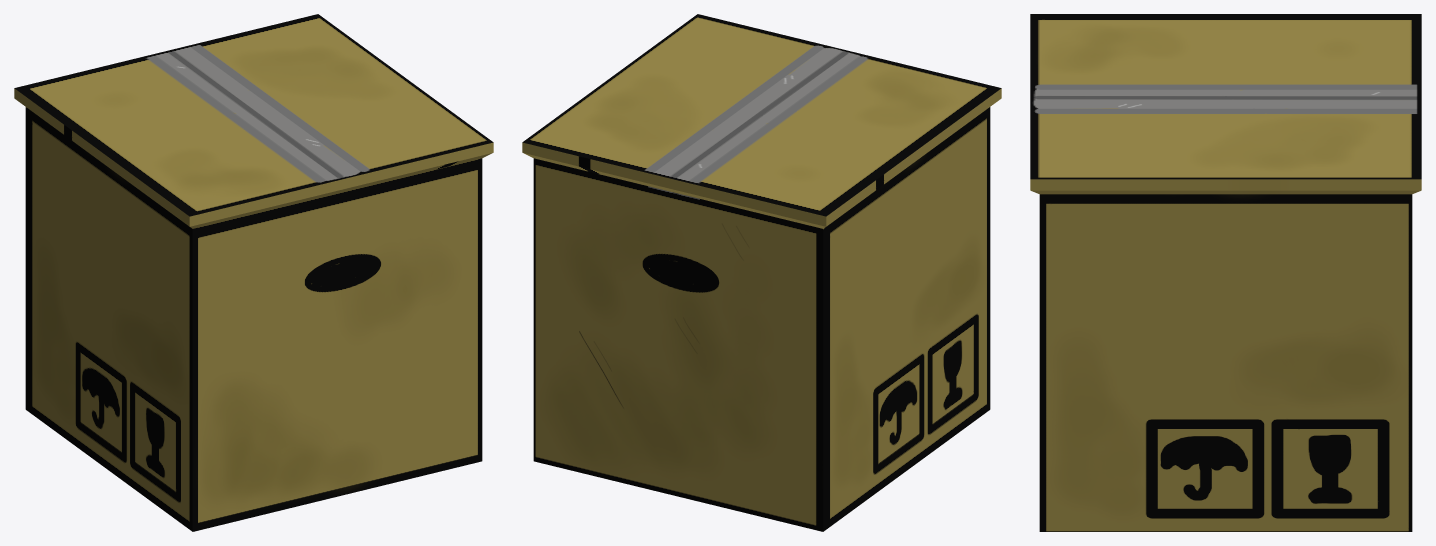
The model's file is Box-Throw.fbx.
The picture shows the model from 3 angles, left to right: view 1: azimuth 30°, elevation 25°; view 2: azimuth 150°, elevation 25°; view 3: azimuth 270°, elevation 25°; orthographic projection. The views are drawn at different scales.
Parts seen in each view (by area): view 1: doos; view 2: doos; view 3: doos.
Boxes of the visible parts, x1,y1,x2,y2 form: doos: (14, 14, 493, 531); doos: (522, 14, 1001, 531); doos: (1030, 14, 1421, 531).
Size of the model in its own units: 257 by 259 by 257.
1 material, 1 textured.
